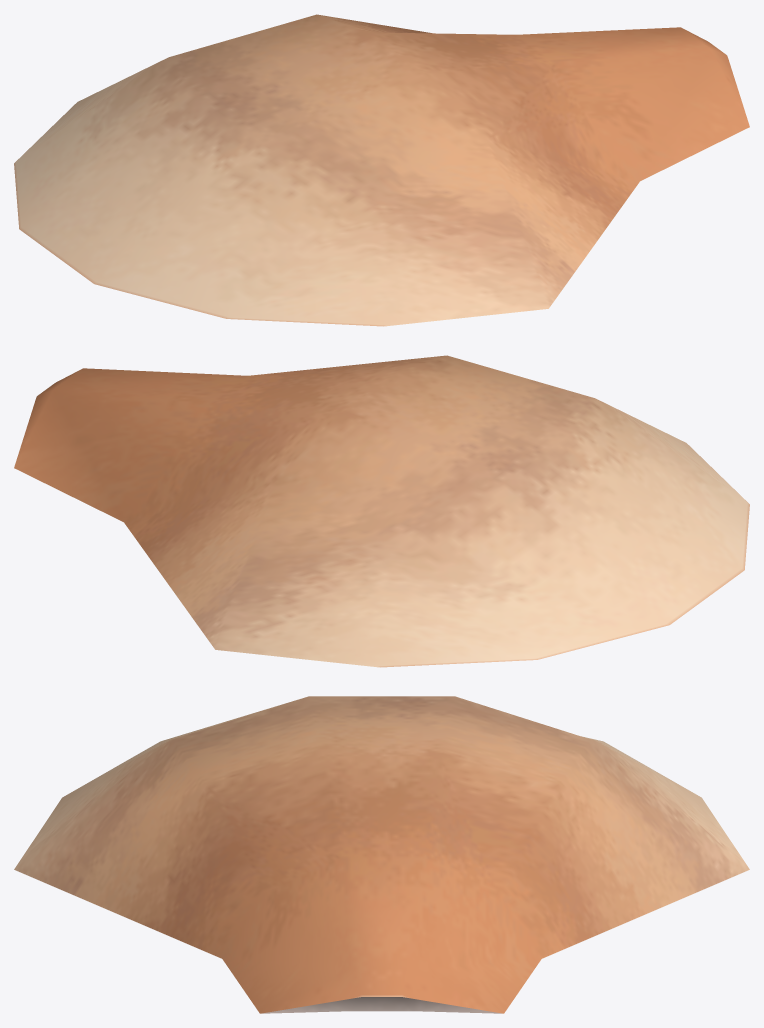
Rendered from Shell_Salmon.fbx.
3 views of the same model, one above another, from view 1: azimuth 30°, elevation 25°; view 2: azimuth 150°, elevation 25°; view 3: azimuth 270°, elevation 25° (orthographic). The views are drawn at different scales.
Visible parts, largest first — view 1: Shell Salmon Bottom.001; view 2: Shell Salmon Bottom.001; view 3: Shell Salmon Bottom.001, Shell Salmon Top.001.
Part boxes in pixels (left/top/right/bottom): Shell Salmon Bottom.001: left=14, top=14, right=749, bottom=326; Shell Salmon Bottom.001: left=14, top=355, right=749, bottom=667; Shell Salmon Bottom.001: left=14, top=696, right=749, bottom=1013; Shell Salmon Top.001: left=262, top=997, right=501, bottom=1013.
Bounding box in the file's own units: 17.47 × 3.04 × 16.14.
